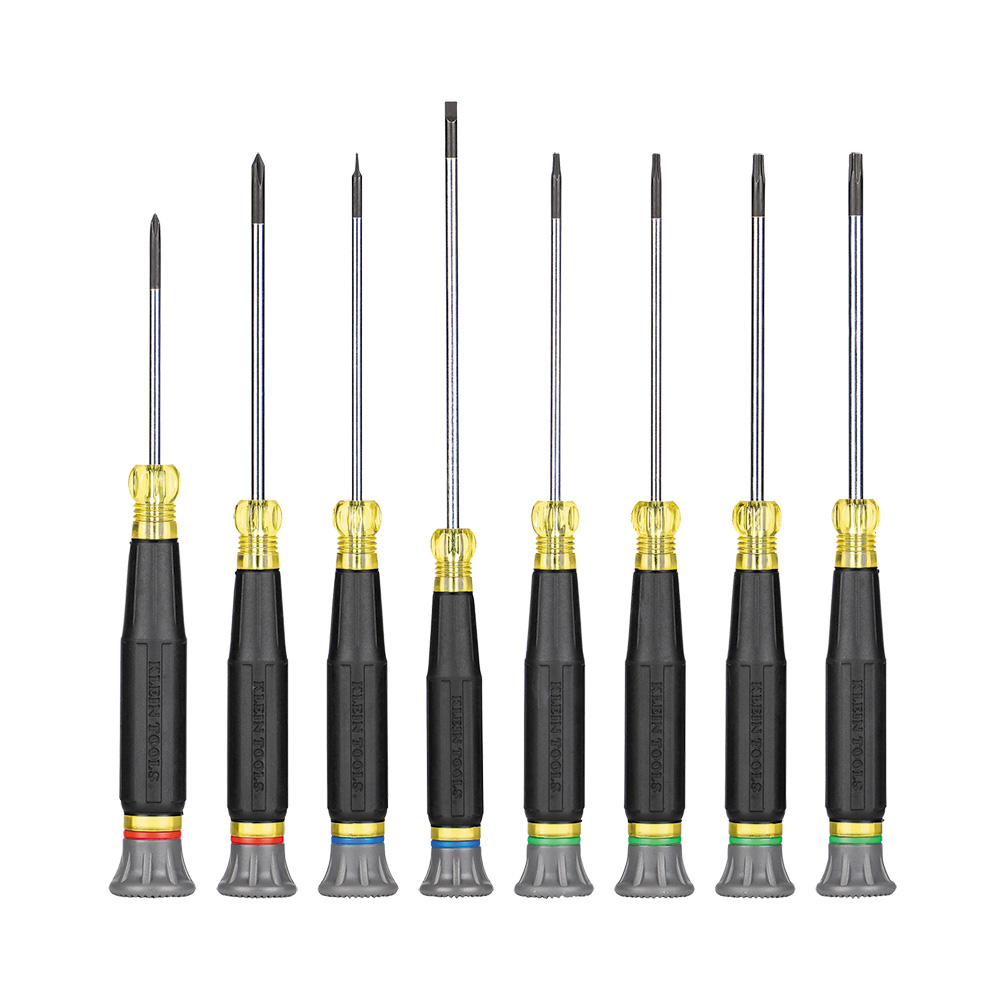screwdriver: (315, 153, 402, 900), (213, 152, 298, 899), (614, 154, 698, 898), (107, 210, 196, 900), (418, 105, 494, 899), (715, 156, 796, 898), (815, 153, 896, 895), (515, 153, 591, 898)
